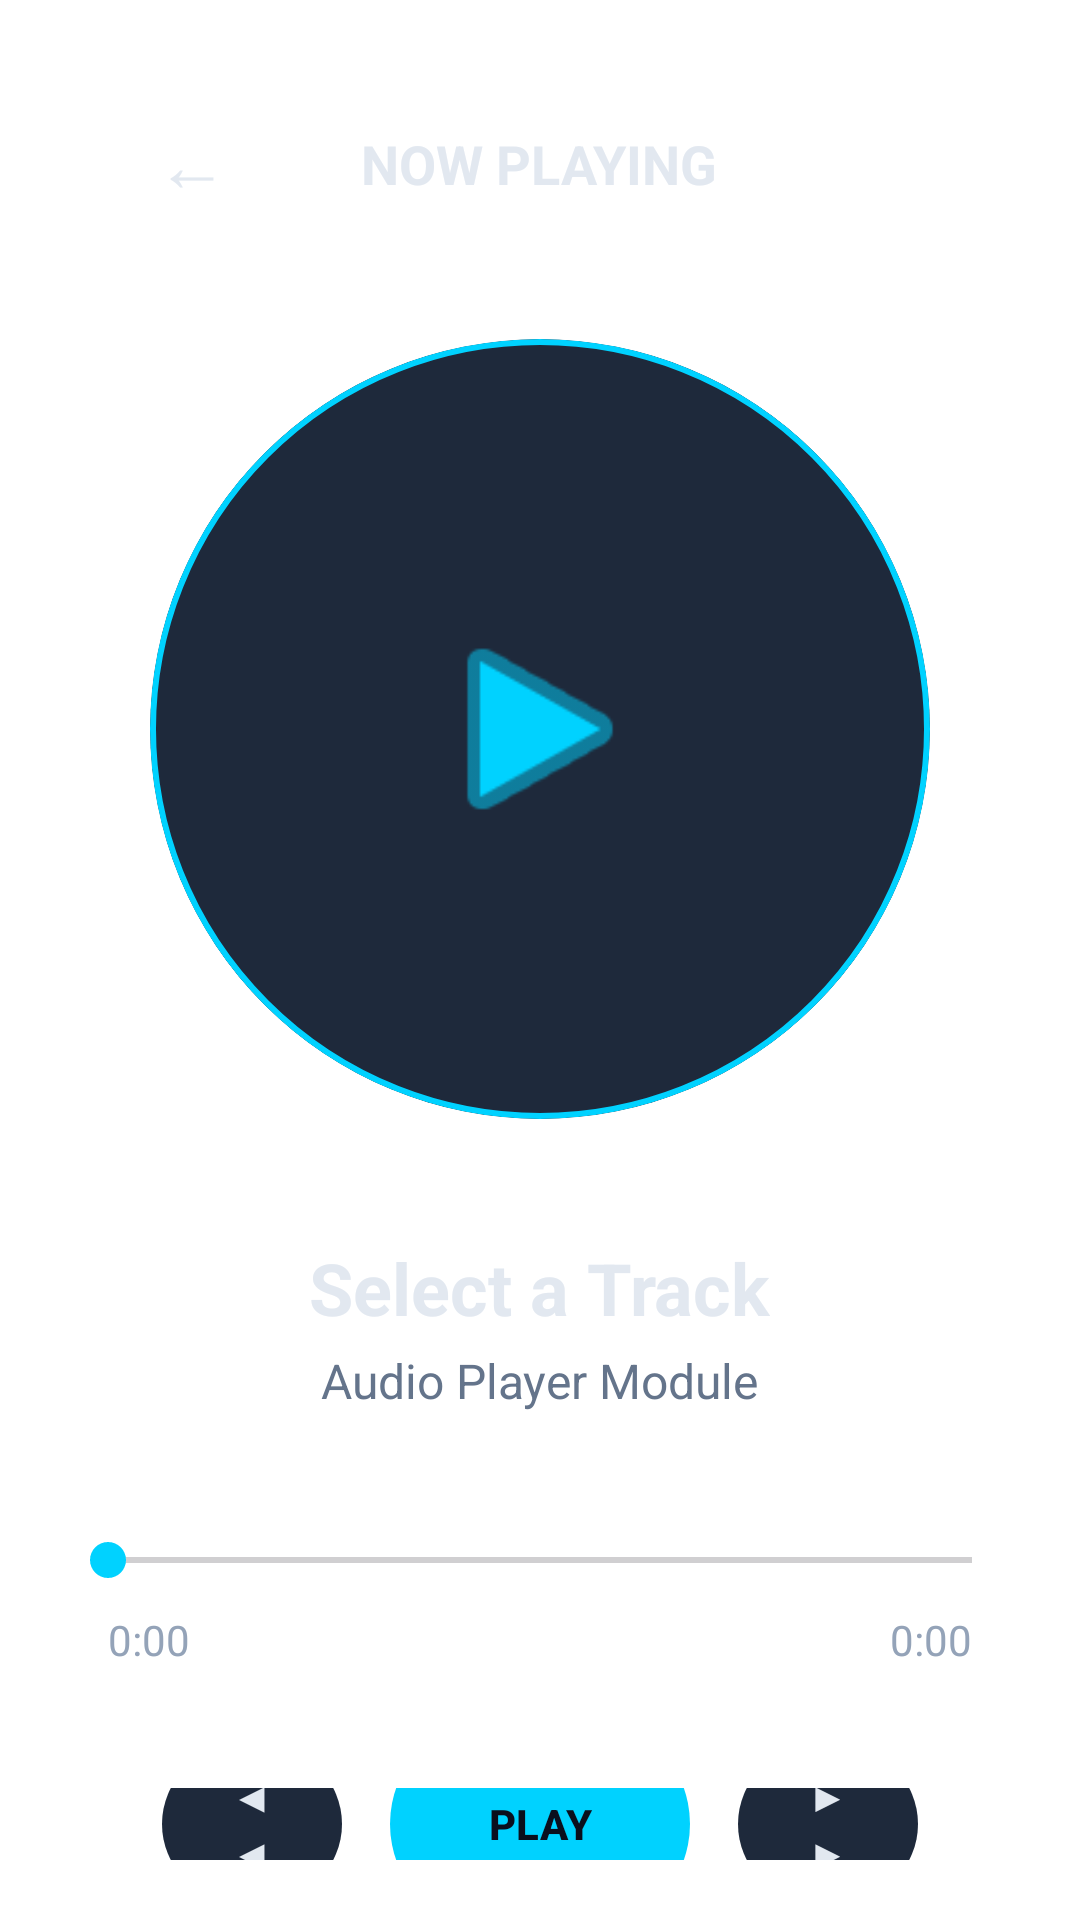

Locate icon controls on the screen. Image size 1080x1920, boxes as {"x1": x1, "y1": y1, "x2": x2, "y2": y2}.
play: {"x1": 467, "y1": 648, "x2": 613, "y2": 810}
